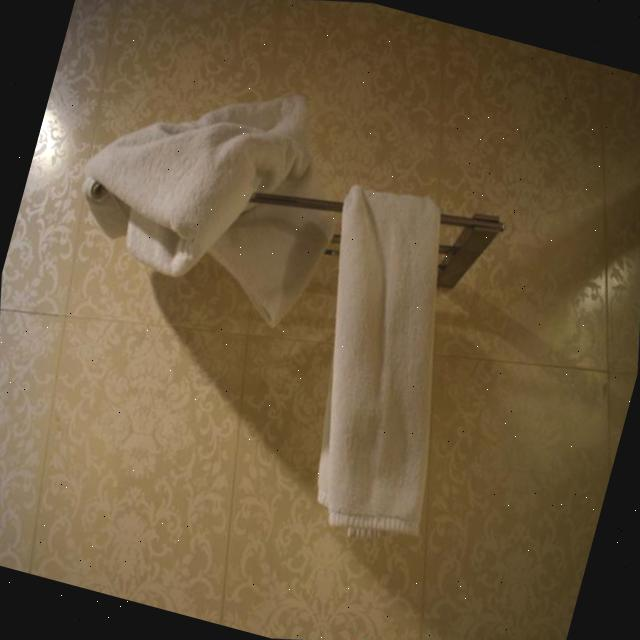disorganized_towel: (79, 100, 347, 336)
folded_towel: (314, 186, 441, 541)
